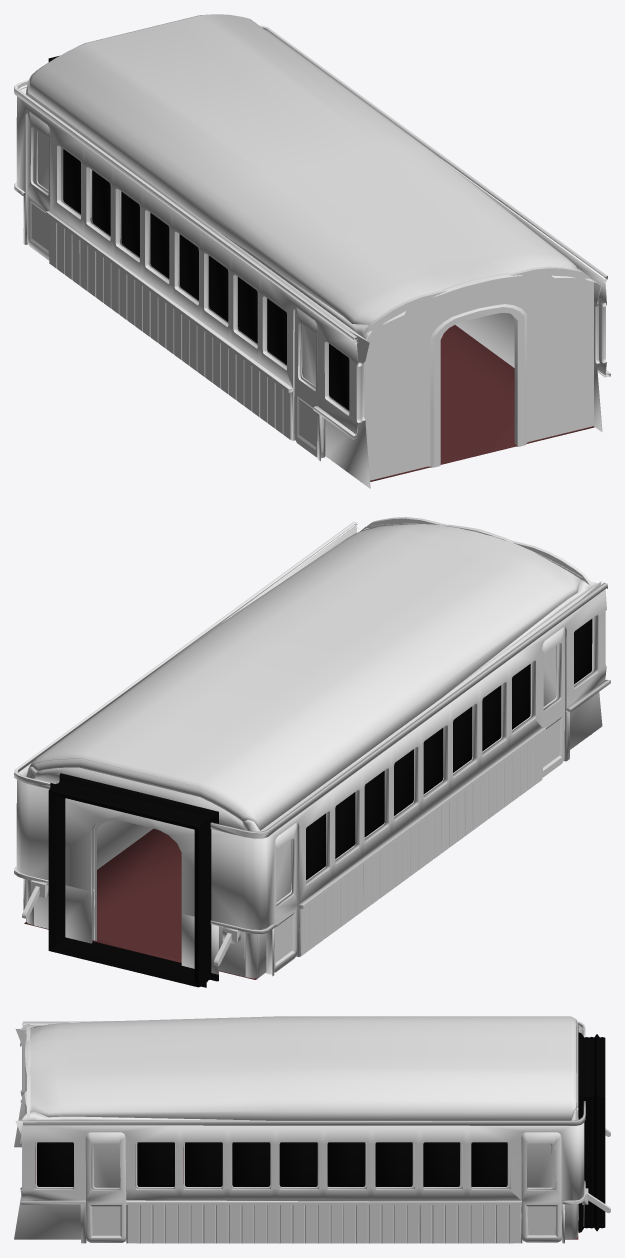
Rendered from vagoneNormale.fbx.
The picture shows the model from 3 angles, top to bottom: view 1: azimuth 30°, elevation 25°; view 2: azimuth 150°, elevation 25°; view 3: azimuth 270°, elevation 25°; orthographic projection. The views are drawn at different scales.
Parts seen in each view (by area): view 1: Tetto, Carrozzeria_esterna, Parete_interno.002, Vetri, Pavimento.002, Stipite_anteriore, Finestre; view 2: Tetto, Carrozzeria_esterna, Parete_interno.002, Aggangio, Vetri, Pavimento.002, Stipite_posteriore, Finestre; view 3: Tetto, Carrozzeria_esterna, Vetri, Parete_interno.002, Aggangio, Finestre.
Boxes of the visible parts, x1,y1,x2,y2 form: Tetto: (28, 14, 578, 325); Carrozzeria_esterna: (14, 25, 610, 461); Parete_interno.002: (26, 81, 602, 488); Vetri: (63, 149, 349, 410); Pavimento.002: (370, 325, 594, 481); Stipite_anteriore: (360, 273, 527, 482); Finestre: (36, 130, 349, 411); Tetto: (29, 524, 580, 830); Carrozzeria_esterna: (14, 521, 610, 976); Parete_interno.002: (26, 517, 602, 978); Aggangio: (48, 773, 218, 987); Vetri: (306, 619, 592, 880); Pavimento.002: (24, 828, 258, 979); Stipite_posteriore: (26, 758, 257, 979); Finestre: (276, 618, 592, 904); Tetto: (24, 1016, 578, 1120); Carrozzeria_esterna: (20, 1021, 610, 1243); Vetri: (37, 1142, 507, 1186); Parete_interno.002: (14, 1024, 578, 1239); Aggangio: (578, 1032, 605, 1232); Finestre: (36, 1142, 553, 1189).
Size of the model in its own units: 453 by 321 by 1118.
